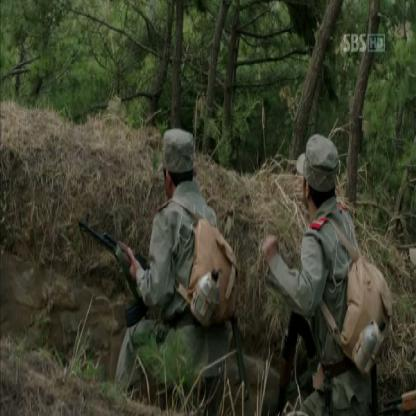Guns: (76, 213, 158, 324), (273, 283, 317, 415)
